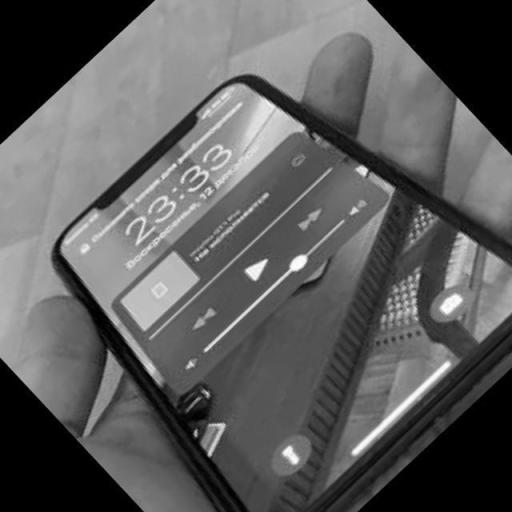phone: (52, 76, 511, 511)
